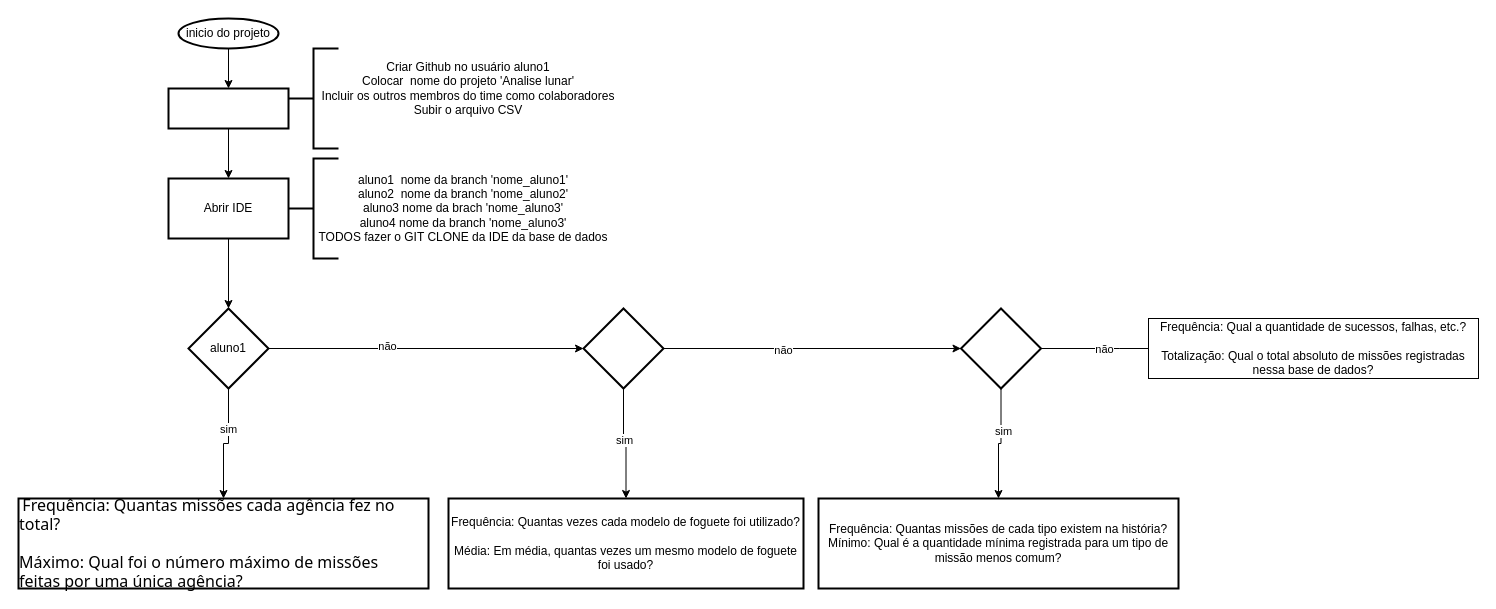
Some shapes in this 1496 by 609 pixel diagram are drawn without their labels. The shapes that lost their labels are listed below. From the top down, each one's centre as x and y in pixels, then its label:
At point 228,108: "criar Github para o time".
At point 623,348: "aluno2".
At point 1001,348: "aluno3".
